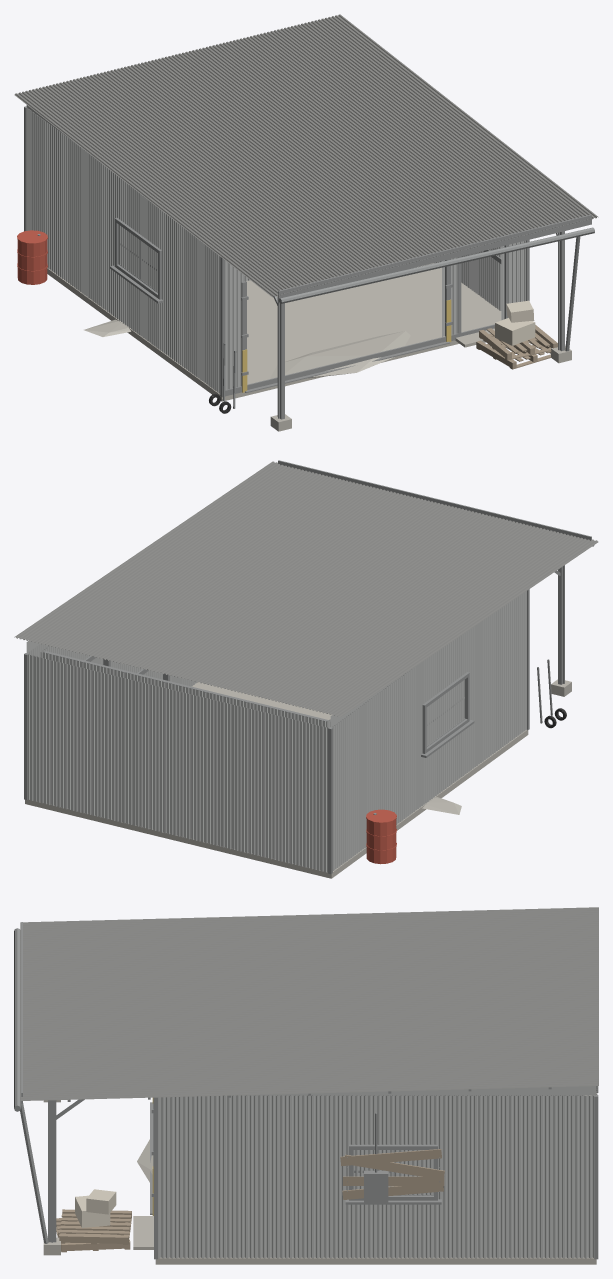
Rendered from station_2.glb.
The picture shows the model from 3 angles, top to bottom: view 1: azimuth 30°, elevation 25°; view 2: azimuth 150°, elevation 25°; view 3: azimuth 270°, elevation 25°; orthographic projection. The views are drawn at different scales.
Parts seen in each view (by area): view 1: Station; view 2: Station; view 3: Station.
Part boxes in pixels (bbox=[...]): Station: bbox=[14, 14, 598, 431]; Station: bbox=[14, 460, 598, 878]; Station: bbox=[14, 907, 598, 1264].
Size of the model in its own units: 7.85 by 3.53 by 10.11.
